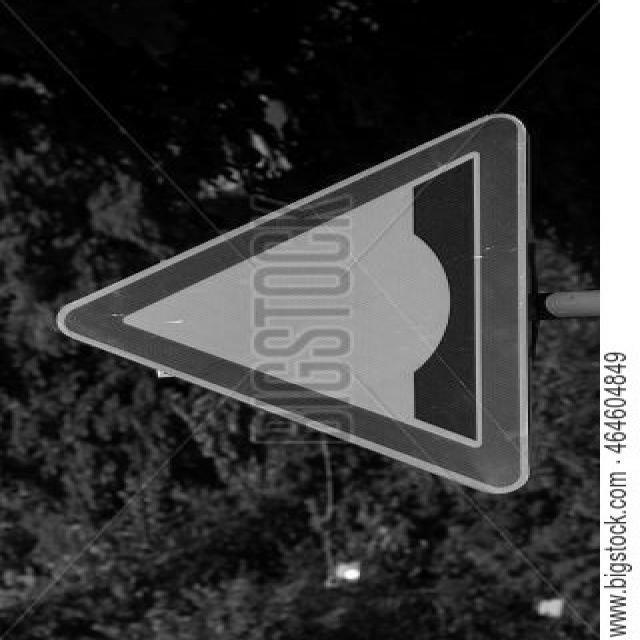dangerous dip: (51, 105, 535, 502)
